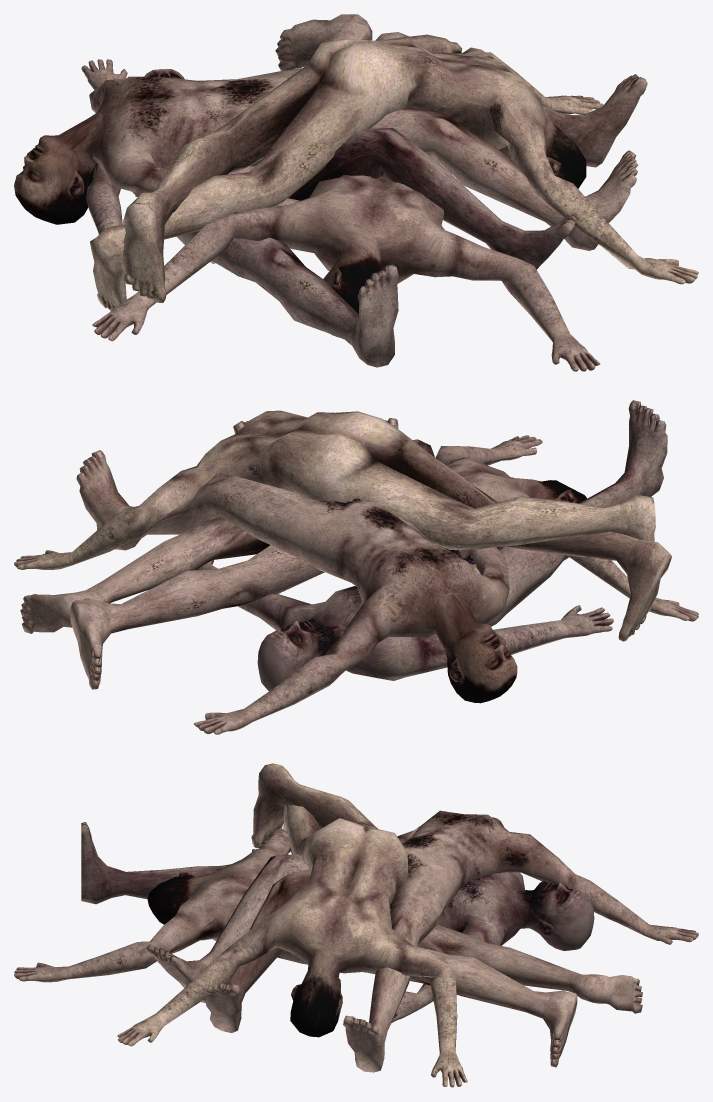
The model's file is corpse_pile2.dae.
The picture shows the model from 3 angles, top to bottom: view 1: azimuth 30°, elevation 25°; view 2: azimuth 150°, elevation 25°; view 3: azimuth 270°, elevation 25°; orthographic projection. The views are drawn at different scales.
Visible parts, largest first — view 1: corpse8, corpse7, corpse6, corpse4; view 2: corpse8, corpse7, corpse6, corpse4; view 3: corpse8, corpse6, corpse7, corpse4.
Part boxes in pixels (x1=…): corpse8: x1=90, y1=37, x2=698, y2=310; corpse7: x1=14, y1=59, x2=647, y2=250; corpse6: x1=92, y1=14, x2=600, y2=371; corpse4: x1=86, y1=69, x2=578, y2=367; corpse8: x1=14, y1=410, x2=671, y2=641; corpse7: x1=76, y1=421, x2=517, y2=734; corpse6: x1=20, y1=435, x2=698, y2=689; corpse4: x1=196, y1=400, x2=667, y2=691; corpse8: x1=117, y1=763, x2=467, y2=1087; corpse6: x1=14, y1=828, x2=642, y2=1067; corpse7: x1=205, y1=810, x2=698, y2=1072; corpse4: x1=81, y1=822, x2=594, y2=1022.
Bounding box in the file's own units: 2.08 × 0.612 × 2.48.
